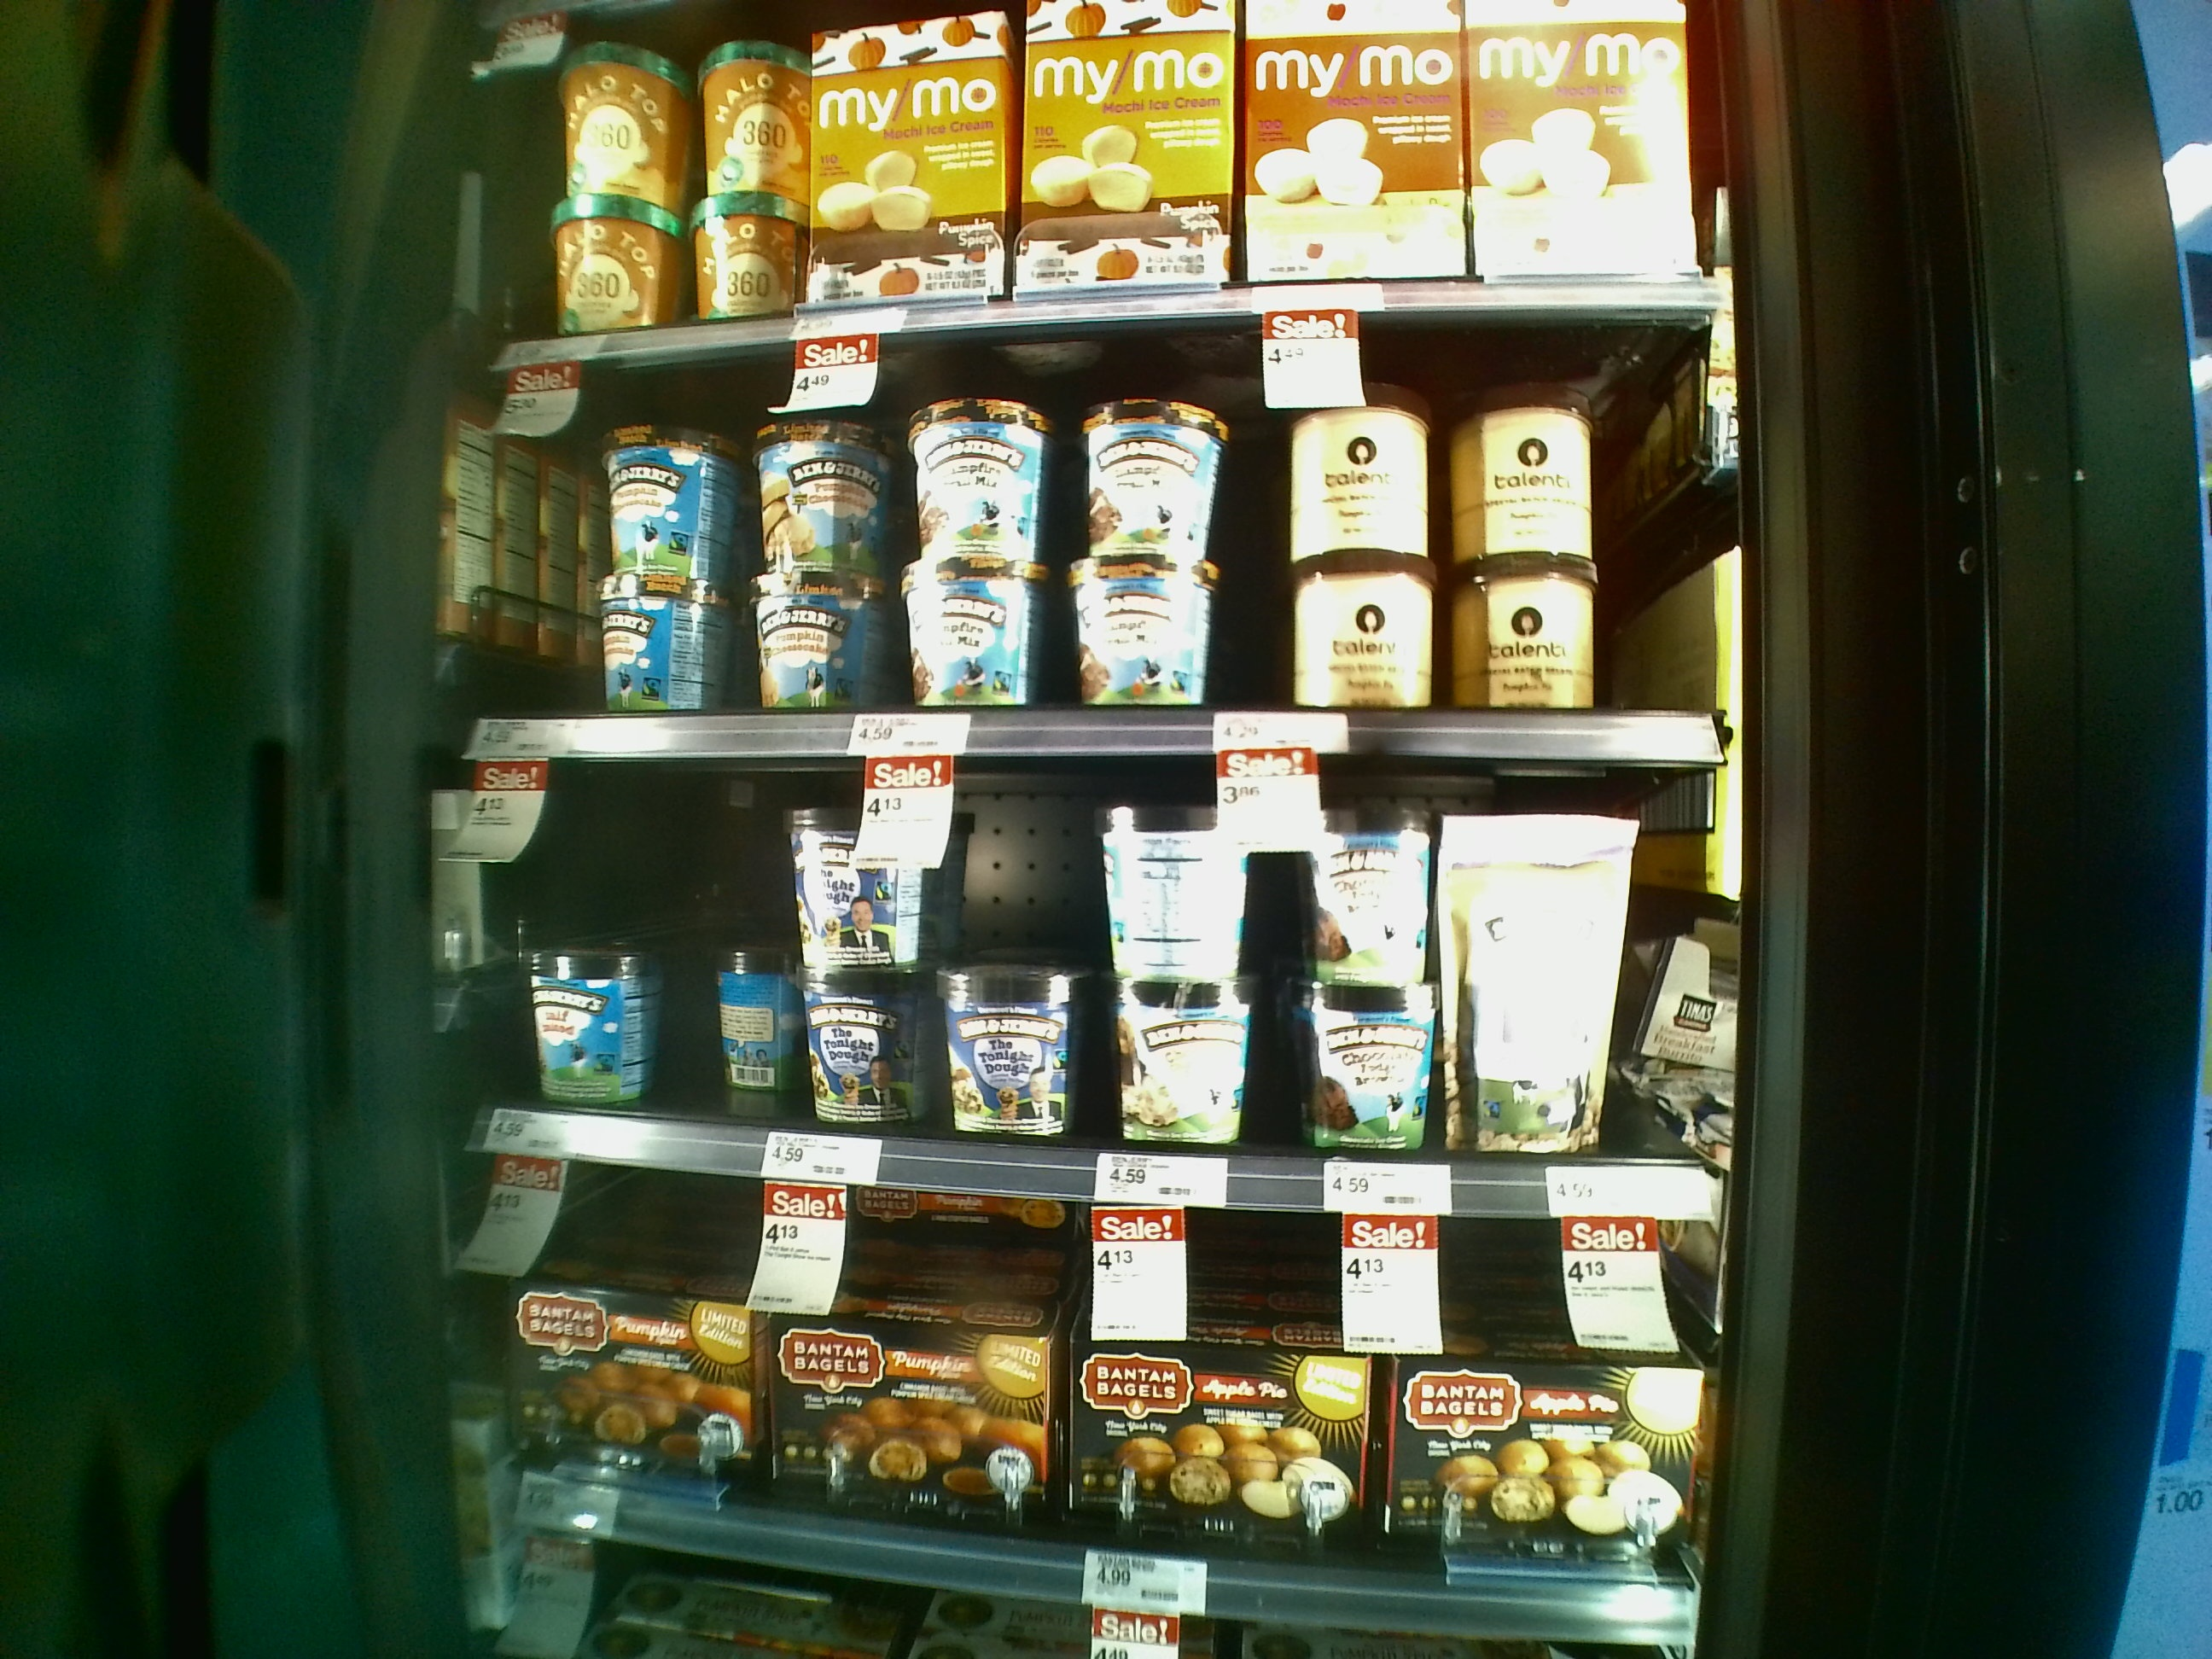shelf: (441, 1148, 1707, 1640), (451, 741, 1719, 1202), (455, 329, 1735, 763)
